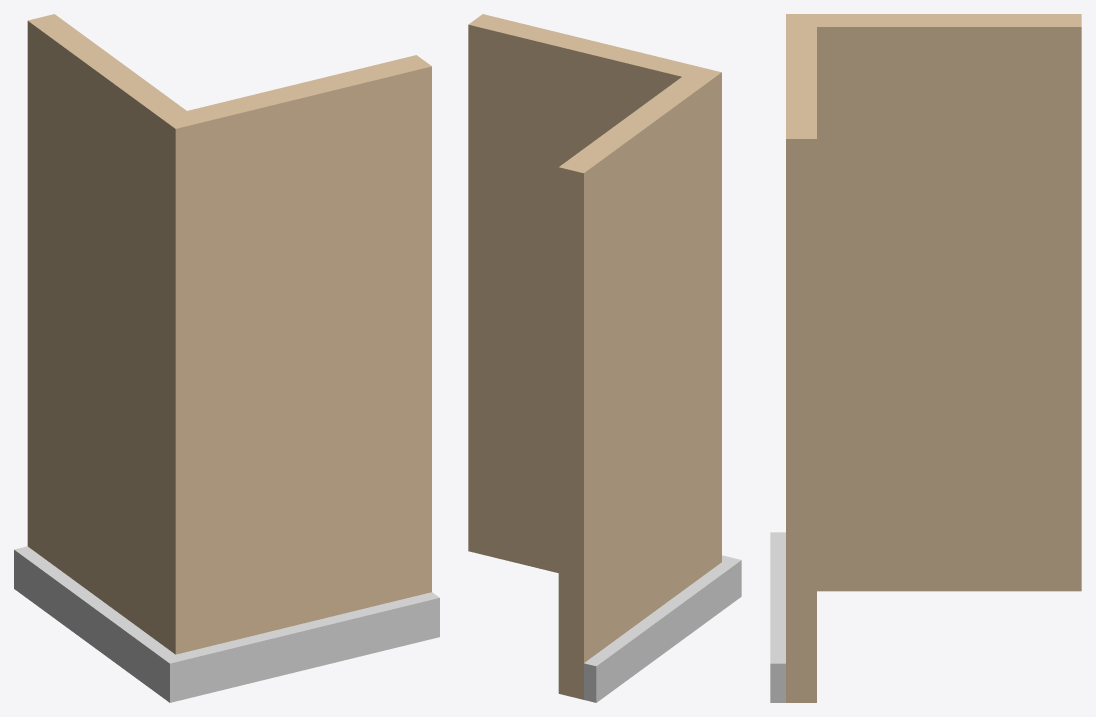
Rendered from Ecke(innen).fbx.
3 renders of one model, left to right at view 1: azimuth 30°, elevation 25°; view 2: azimuth 150°, elevation 25°; view 3: azimuth 270°, elevation 25°, orthographic. The views are drawn at different scales.
Parts seen in each view (by area): view 1: Ecke(innen); view 2: Ecke(innen); view 3: Ecke(innen).
Boxes of the visible parts, left/top/right/bottom form: Ecke(innen): left=14, top=14, right=439, bottom=702; Ecke(innen): left=468, top=14, right=741, bottom=702; Ecke(innen): left=770, top=14, right=1081, bottom=702.
Size of the model in its own units: 200 by 400 by 200.
